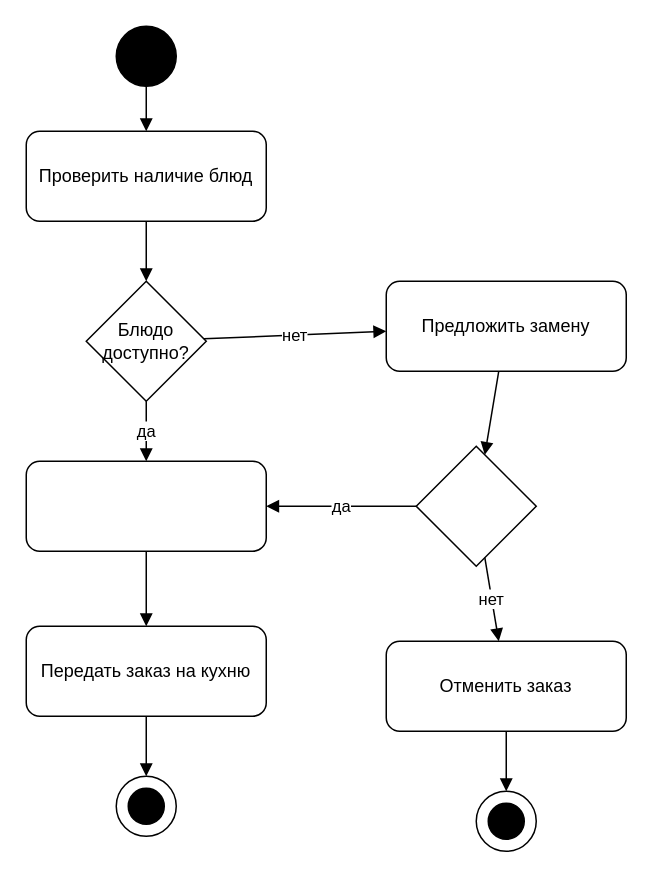
This 653x878 diagram has some shape labels left out. The centre of each missing label's shape, as x and y in pixels:
"Клиент согласен?" goes at (x=475, y=505).
"Подтвердить заказ" goes at (x=145, y=505).
